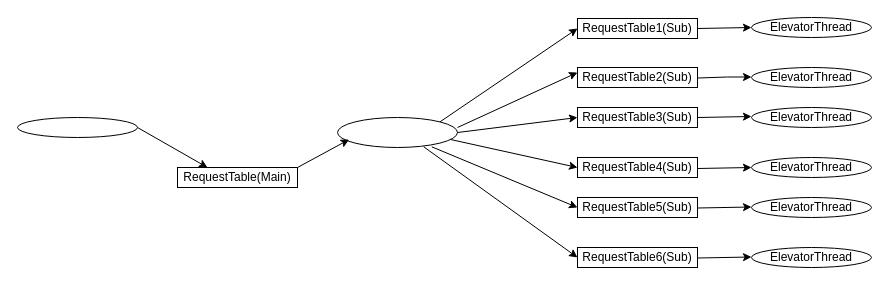
This 889x285 diagram has some shape labels left out. The centre of each missing label's shape, as x and y in pixels:
"DispatchThread" belongs at pixel 397 132.
"InputThread" belongs at pixel 77 127.
